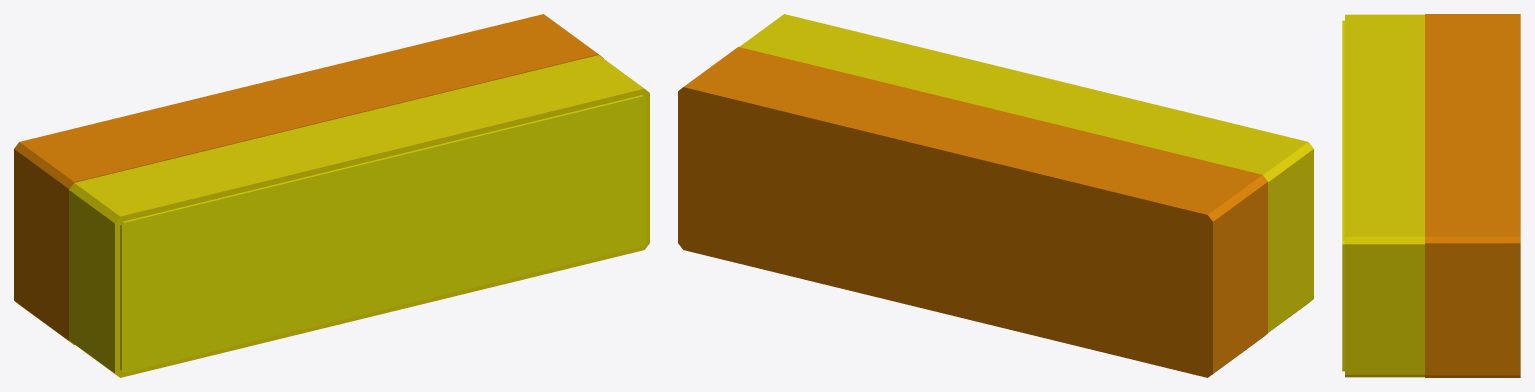
Rendered from SM_TransitSystemV1_TramMid_Paint.obj.
3 renders of one model, left to right at view 1: azimuth 30°, elevation 25°; view 2: azimuth 150°, elevation 25°; view 3: azimuth 270°, elevation 25°, orthographic. The views are drawn at different scales.
Parts seen in each view (by area): view 1: RoofPanel, UpperBody, LowerBody; view 2: LowerBody, UpperBody; view 3: LowerBody, UpperBody, RoofPanel.
Boxes of the visible parts, bbox=[...] form: RoofPanel: bbox=[120, 95, 646, 372]; UpperBody: bbox=[69, 55, 649, 377]; LowerBody: bbox=[14, 14, 603, 344]; LowerBody: bbox=[678, 47, 1267, 377]; UpperBody: bbox=[739, 14, 1313, 332]; LowerBody: bbox=[1425, 14, 1520, 377]; UpperBody: bbox=[1345, 14, 1424, 377]; RoofPanel: bbox=[1342, 20, 1344, 371].
Size of the model in its own units: 900 by 262 by 298.
